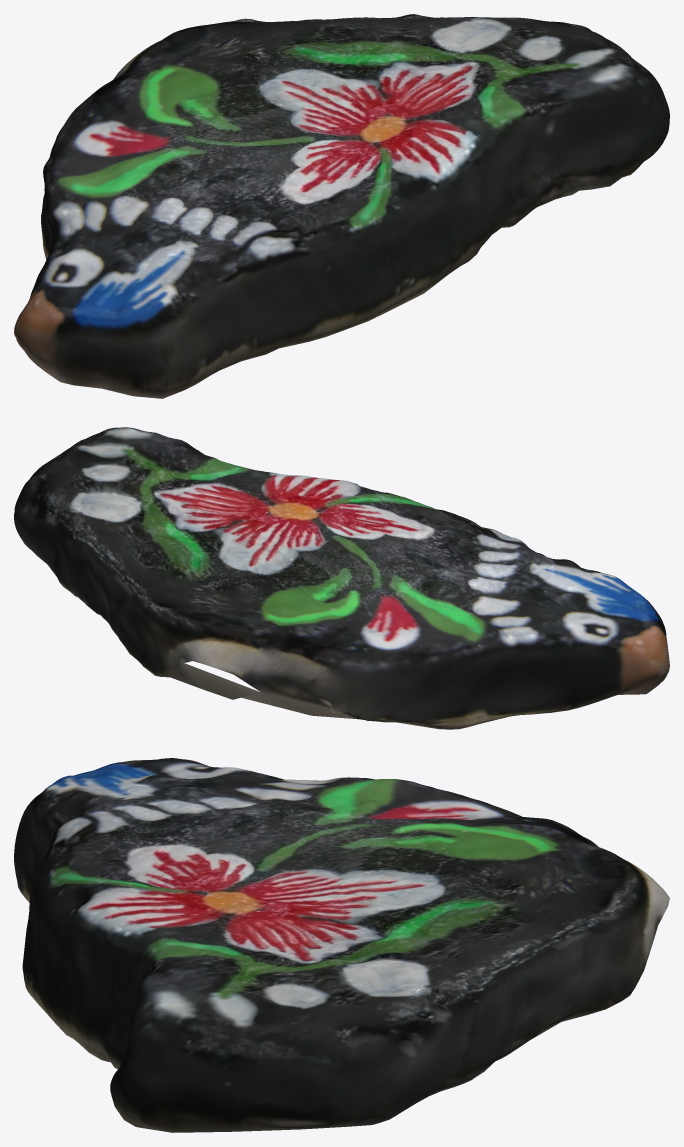
3 renders of one model, top to bottom at view 1: azimuth 30°, elevation 25°; view 2: azimuth 150°, elevation 25°; view 3: azimuth 270°, elevation 25°, orthographic. The views are drawn at different scales.
Size of the model in its own units: 0.6947 by 0.1723 by 0.4616.
1 material, 1 textured.
